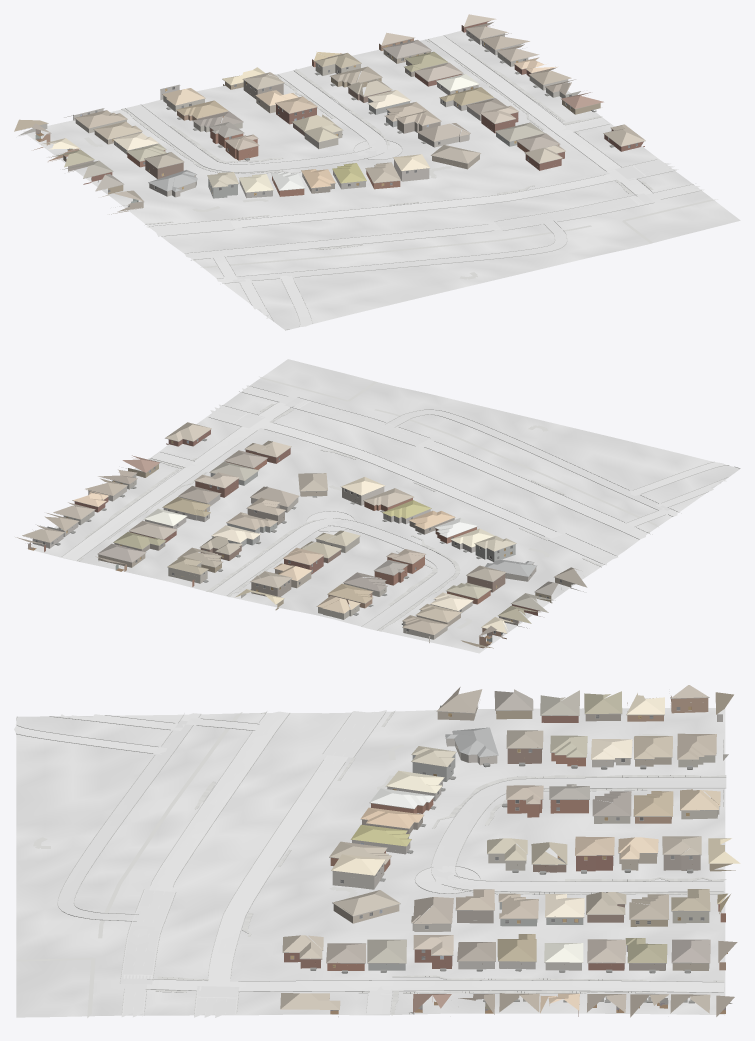
The picture shows the model from 3 angles, top to bottom: view 1: azimuth 30°, elevation 25°; view 2: azimuth 150°, elevation 25°; view 3: azimuth 270°, elevation 25°; orthographic projection. The views are drawn at different scales.
Visible parts, largest first — view 1: ground, roof, concrete, asphalt, wall, curb, walk, wall_stucco, detail, wall_stone, mark_w; view 2: ground, roof, concrete, asphalt, wall, curb, wall_stucco, walk, detail, wall_stone, mark_w; view 3: ground, roof, concrete, asphalt, wall, walk, curb, wall_stucco, detail, wall_stone, mark_w, mark_y.
Boxes of the visible parts, <box> form: ground: <box>23,30,740,330</box>; roof: <box>14,14,645,201</box>; concrete: <box>126,35,652,327</box>; asphalt: <box>146,159,704,259</box>; wall: <box>33,20,644,196</box>; curb: <box>121,35,701,330</box>; walk: <box>84,39,717,279</box>; wall_stucco: <box>73,52,585,214</box>; detail: <box>21,21,645,207</box>; wall_stone: <box>18,30,523,198</box>; mark_w: <box>152,124,695,259</box>; ground: <box>26,359,740,653</box>; roof: <box>15,422,587,648</box>; concrete: <box>62,402,726,630</box>; asphalt: <box>209,385,646,565</box>; wall: <box>44,430,552,648</box>; curb: <box>61,386,740,630</box>; wall_stucco: <box>63,472,583,643</box>; walk: <box>77,376,658,631</box>; detail: <box>30,429,576,639</box>; wall_stone: <box>27,495,475,552</box>; mark_w: <box>180,387,645,563</box>; ground: <box>16,708,725,1017</box>; roof: <box>280,685,740,1017</box>; concrete: <box>14,713,726,1014</box>; asphalt: <box>120,710,386,1017</box>; wall: <box>284,696,735,1016</box>; walk: <box>16,711,726,1017</box>; curb: <box>16,711,726,1016</box>; wall_stucco: <box>332,705,728,970</box>; detail: <box>282,697,732,1014</box>; wall_stone: <box>352,714,722,970</box>; mark_w: <box>122,711,390,1016</box>; mark_y: <box>142,712,353,1016</box>.
Bounding box in the file's own units: 272 × 12.35 × 256.
